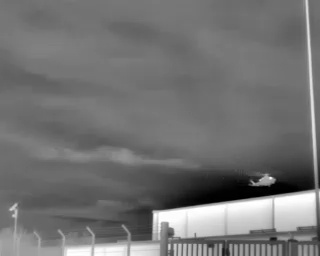HELICOPTER: (239, 166, 290, 192)
